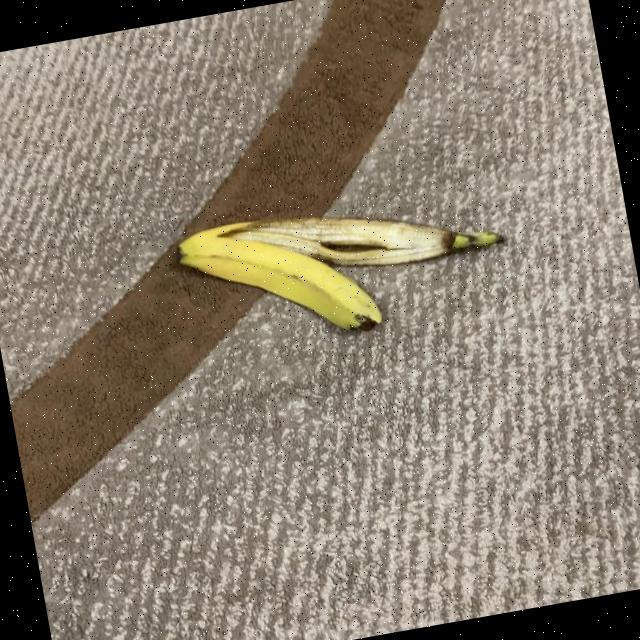banana-peel: (216, 176, 504, 296), (172, 198, 384, 361)
